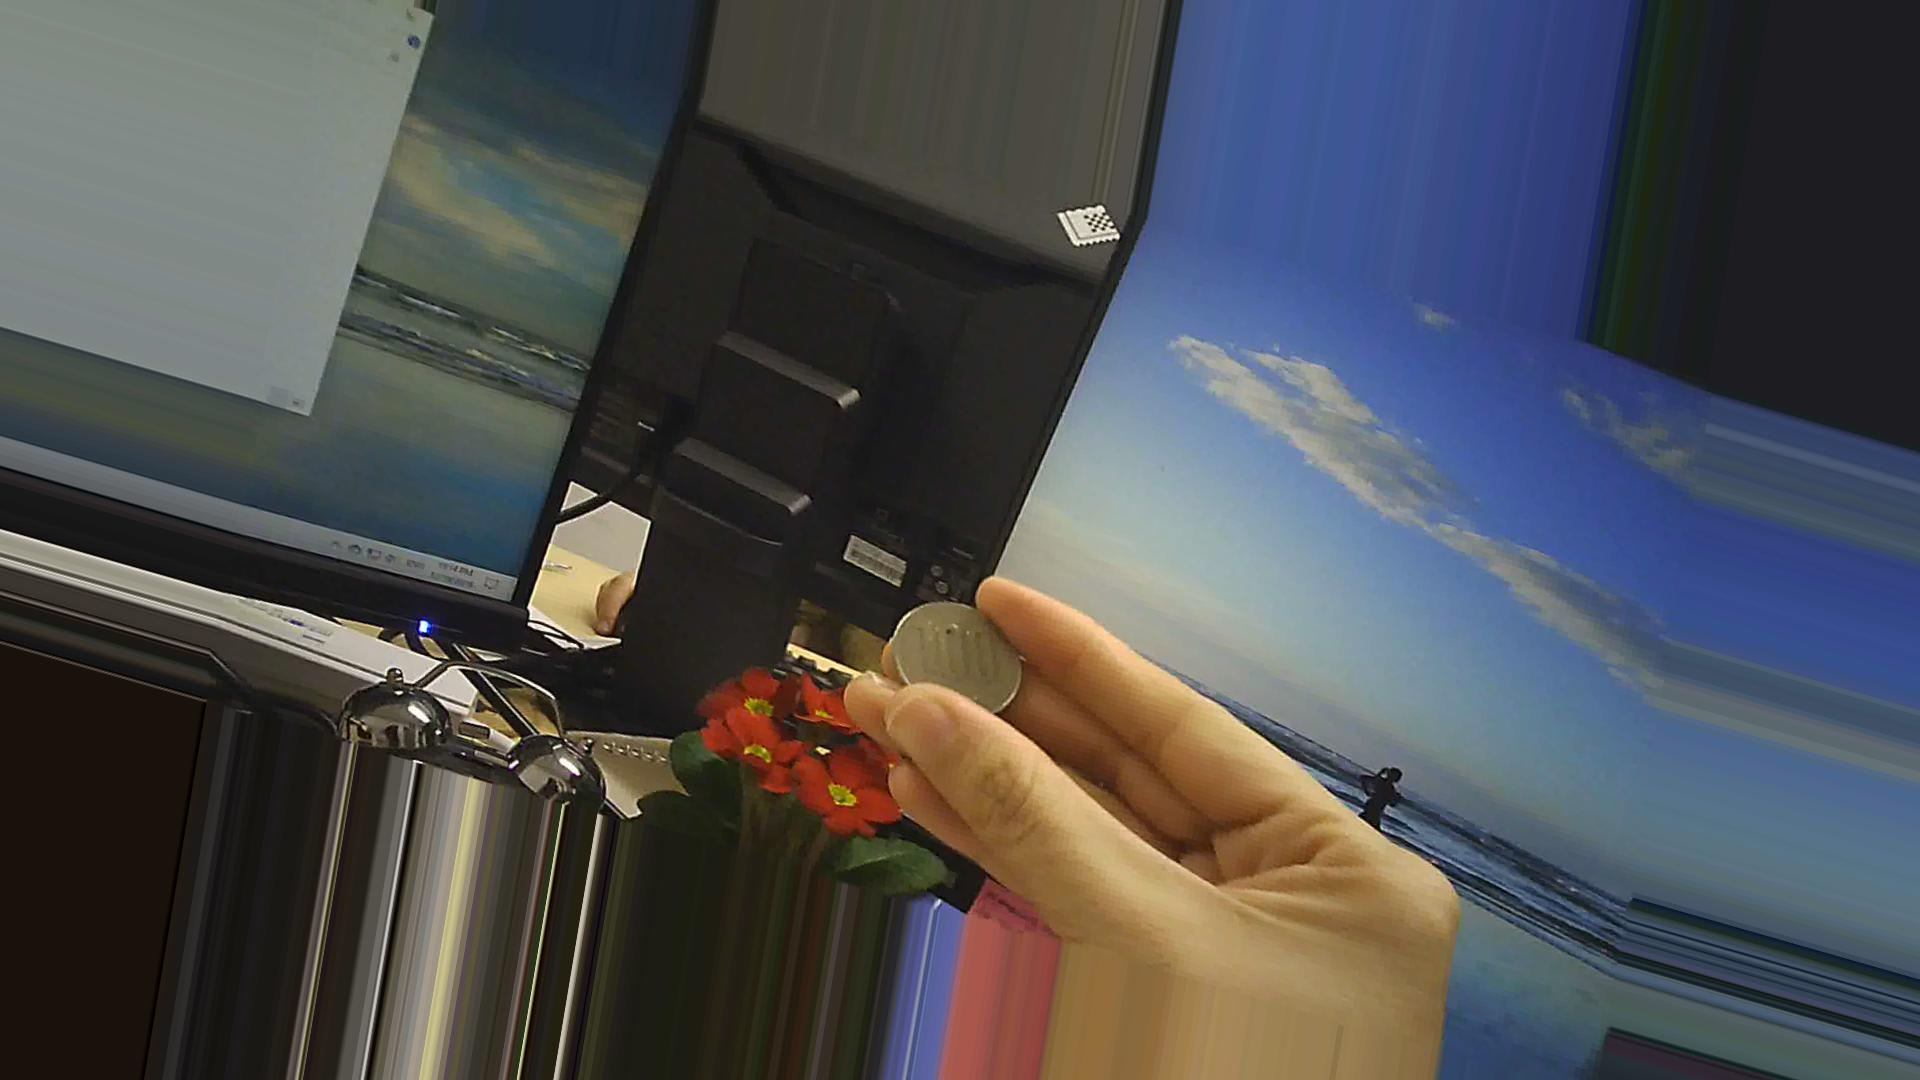100 Yen: (887, 593, 1040, 708)
